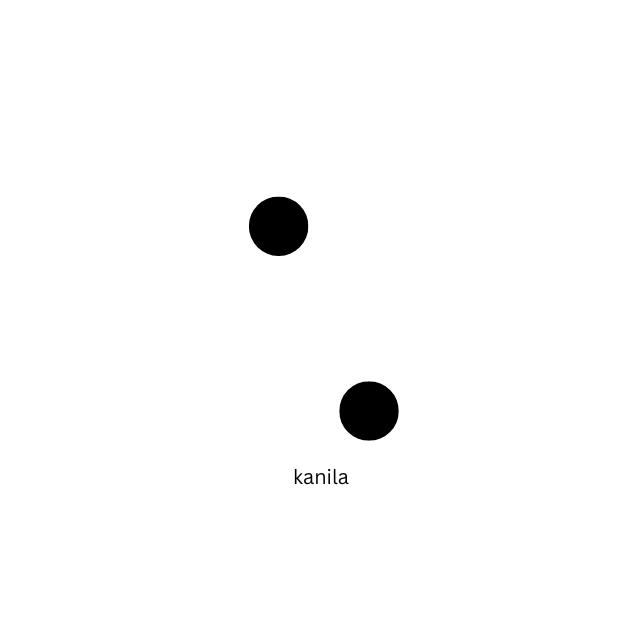one_cell_non_alphabet_kanila: (248, 194, 401, 442)
